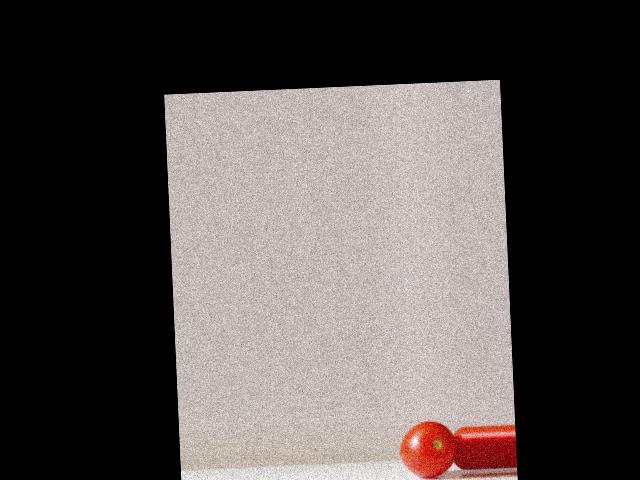tomato: (398, 420, 457, 478)
